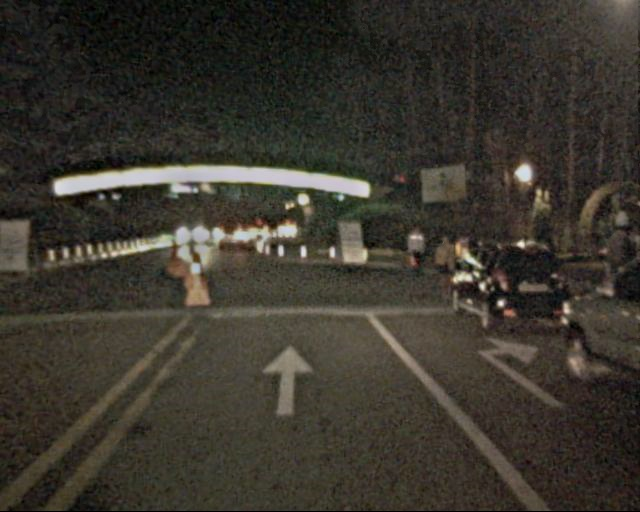person: (433, 238, 457, 296), (455, 231, 478, 286), (406, 226, 427, 278)
